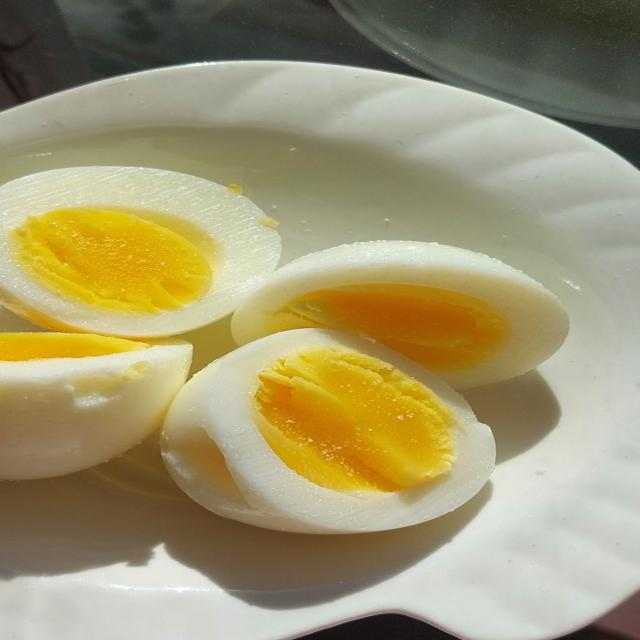egg boiled: (162, 329, 494, 533), (232, 241, 568, 388), (0, 167, 280, 337), (0, 333, 192, 480)
